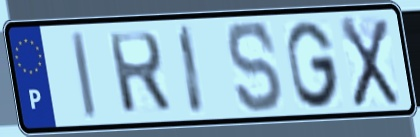G: (284, 18, 343, 111)
I: (176, 22, 208, 118), (69, 28, 100, 122)
R: (105, 28, 175, 117)
S: (225, 18, 286, 116)
X: (337, 15, 402, 110)
